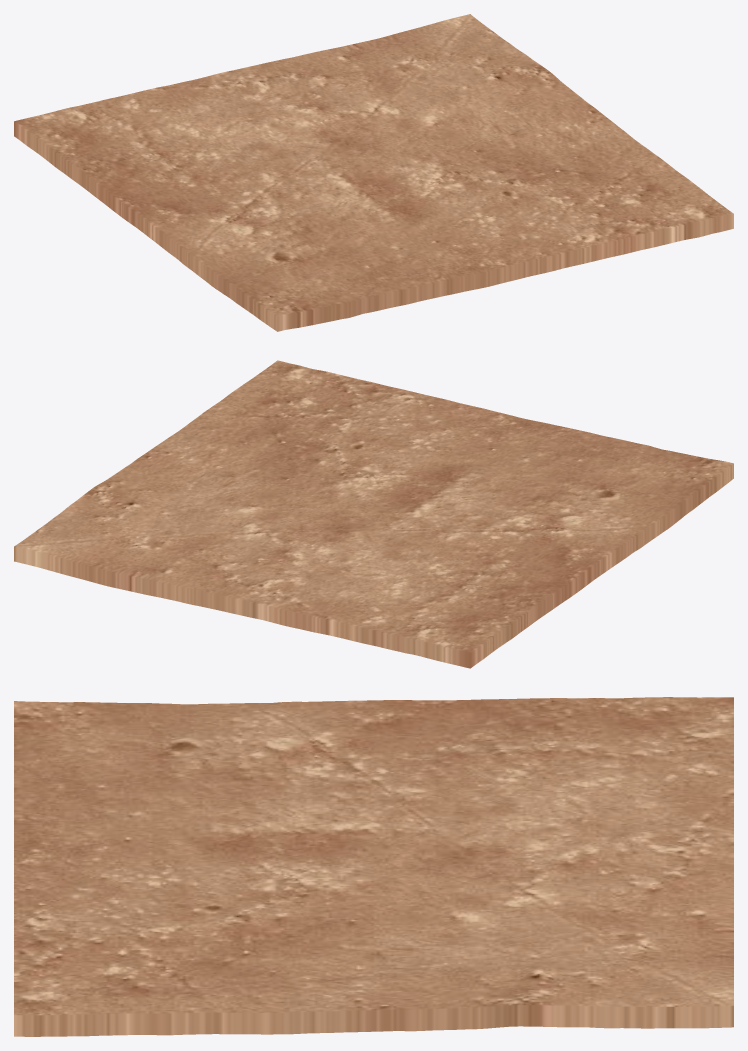
3 renders of one model, top to bottom at view 1: azimuth 30°, elevation 25°; view 2: azimuth 150°, elevation 25°; view 3: azimuth 270°, elevation 25°, orthographic. The views are drawn at different scales.
Parts seen in each view (by area): view 1: L6_36_8; view 2: L6_36_8; view 3: L6_36_8.
Part boxes in pixels (bbox=[...]): L6_36_8: bbox=[14, 14, 733, 331]; L6_36_8: bbox=[14, 360, 733, 668]; L6_36_8: bbox=[14, 697, 733, 1036].
Size of the model in its own units: 225 by 12.29 by 225.
Materials: 1 (1 with a texture image).
